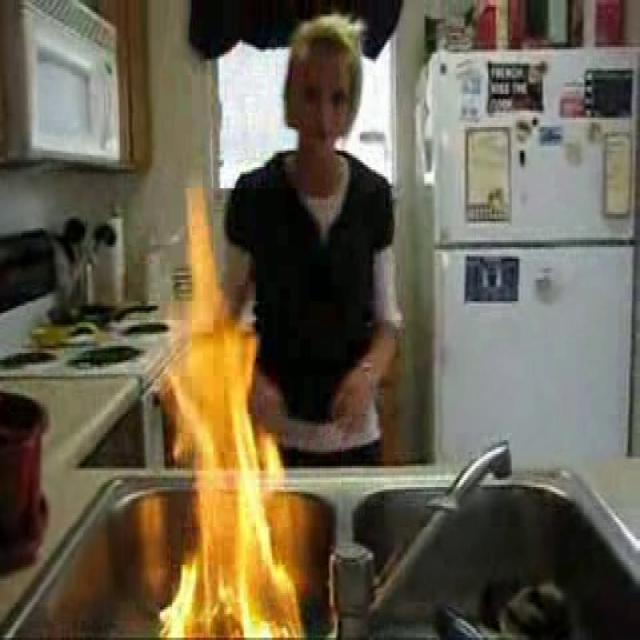Fire: (157, 167, 312, 640)
